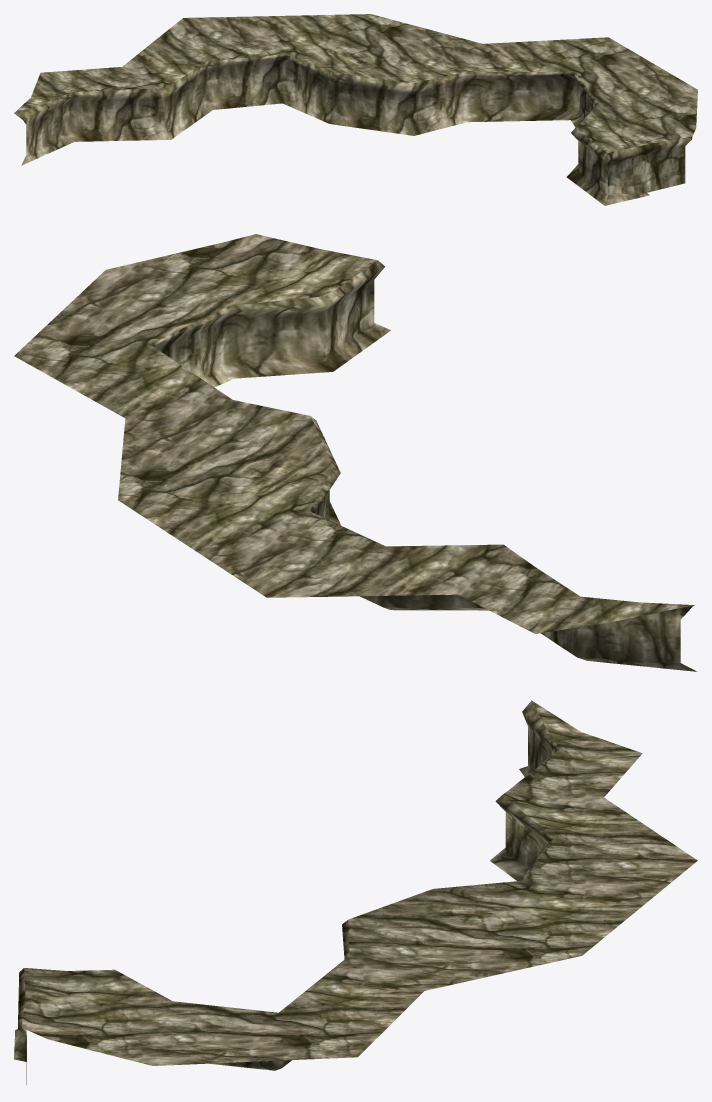
Rendered from CB_NEWPLAYSURFACE_CB_PLAYSURFACE133.fbx.
The picture shows the model from 3 angles, top to bottom: view 1: azimuth 30°, elevation 25°; view 2: azimuth 150°, elevation 25°; view 3: azimuth 270°, elevation 25°; orthographic projection. The views are drawn at different scales.
Parts seen in each view (by area): view 1: CB_NEWPLAYSURFACE_CB_PLAYSURFACE133; view 2: CB_NEWPLAYSURFACE_CB_PLAYSURFACE133; view 3: CB_NEWPLAYSURFACE_CB_PLAYSURFACE133.
Part boxes in pixels (x1,y1,x2,y2): CB_NEWPLAYSURFACE_CB_PLAYSURFACE133: (14,14,697,205); CB_NEWPLAYSURFACE_CB_PLAYSURFACE133: (14,234,697,671); CB_NEWPLAYSURFACE_CB_PLAYSURFACE133: (14,700,697,1084).
Bounding box in the file's own units: 316014 × 28369 × 255672.
2 materials, 2 textured.
